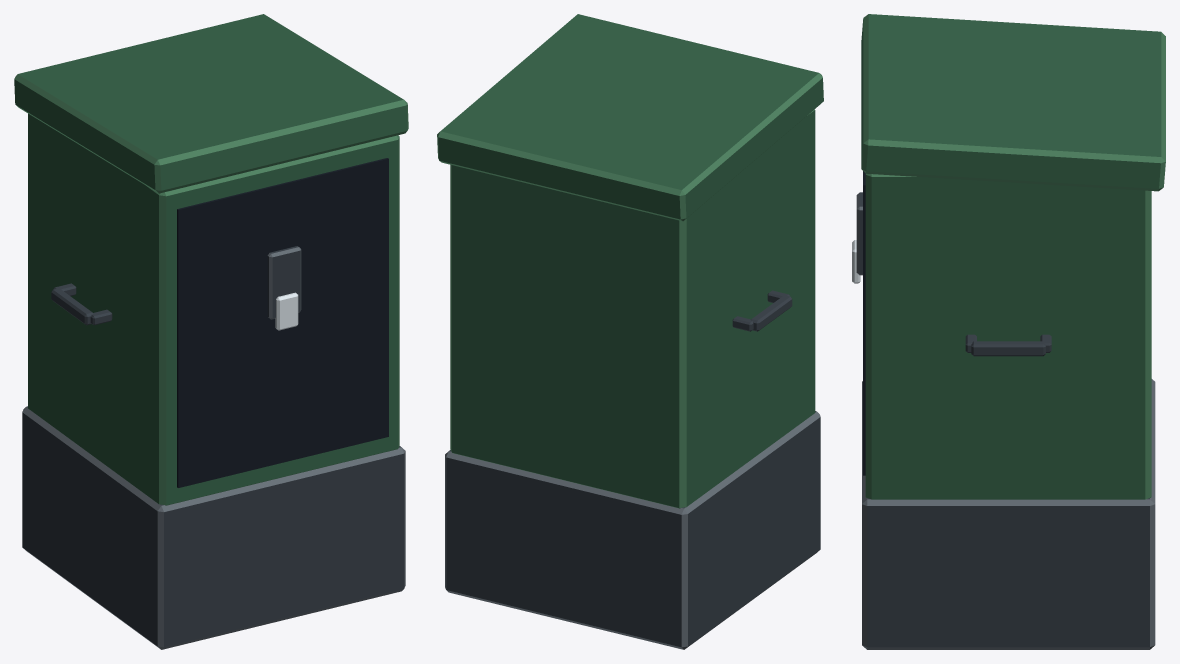
The model's file is mailbox_relay_green.fbx.
The picture shows the model from 3 angles, left to right: view 1: azimuth 30°, elevation 25°; view 2: azimuth 150°, elevation 25°; view 3: azimuth 270°, elevation 25°; orthographic projection. The views are drawn at different scales.
Parts seen in each view (by area): view 1: Mailbox_RelayGreen; view 2: Mailbox_RelayGreen; view 3: Mailbox_RelayGreen.
Boxes of the visible parts, x1,y1,x2,y2 form: Mailbox_RelayGreen: (14, 14, 408, 649); Mailbox_RelayGreen: (437, 14, 823, 649); Mailbox_RelayGreen: (852, 14, 1165, 649).
Bounding box in the file's own units: 280 × 450 × 250.
